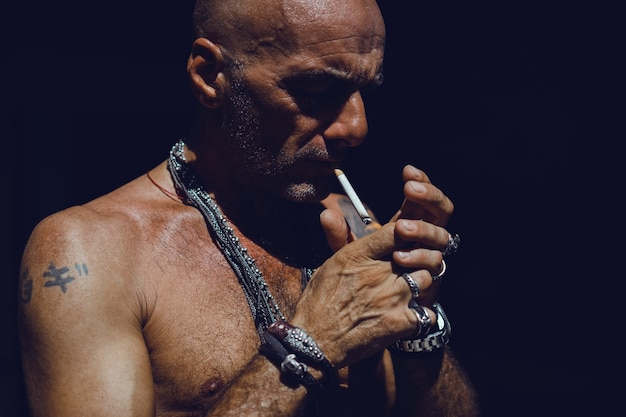cigarette: (329, 168, 374, 225)
